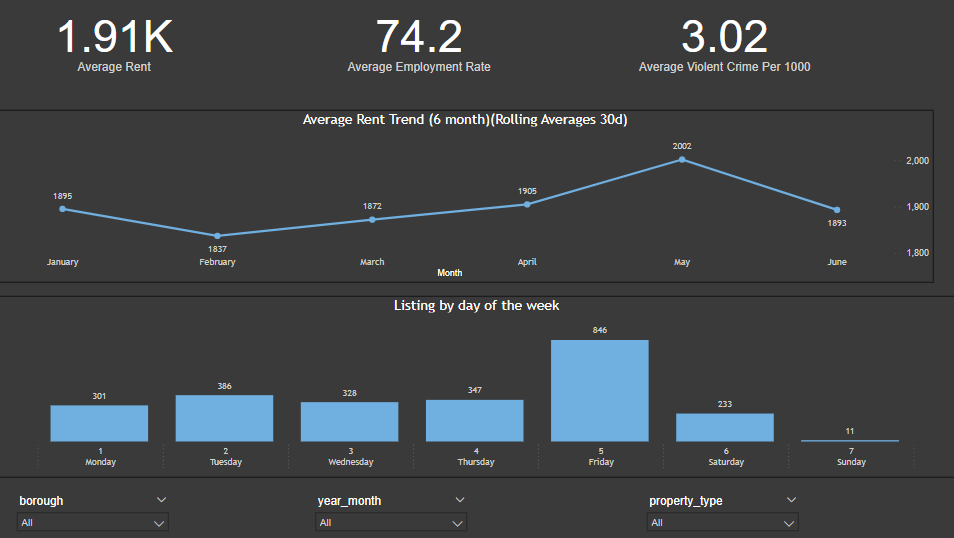

What the dashboard file says about the page in this screenshot:
{"tool":"powerbi","page":{"name":"Trends","canvas":[1280,720],"ordinal":2},"visuals":[{"type":"lineChart","title":"Average Rent Trend (6 month)(Rolling Averages 30d)","fields":{"Category":["fact_listings.date_listed.Variation.Date Hierarchy.Month"],"Y2":["Measure Table.Rolling avg rent (3m)"]},"box":[0,148,1250,212],"z":0},{"type":"slicer","fields":{"Values":["crime_rate_dim.borough"]},"box":[18.3,653.3,221.7,66.7],"z":1000},{"type":"card","fields":{"Values":["Avg(fact_listings.price_amount)"]},"box":[17.8,0,277.8,105.6],"z":2000},{"type":"card","fields":{"Values":["Avg(employment_rate_dim.employment_rate_2024)"]},"box":[420,0,287.8,105.6],"z":3000},{"type":"card","fields":{"Values":["Avg(crime_rate_dim.violent_crime1000)"]},"box":[803.3,0,334.4,105.6],"z":4000},{"type":"clusteredColumnChart","title":"Listing by day of the week","fields":{"Y":["Measure Table.listing count"],"Category":["fact_listings.day of the week","fact_listings.Weekday number"]},"box":[0,422,1140,166],"z":6000},{"type":"slicer","fields":{"Values":["fact_listings.property_type"]},"box":[858.3,653.3,221.7,66.7],"z":7000},{"type":"slicer","fields":{"Values":["fact_listings.year_month"]},"box":[416.7,653.3,221.7,66.7],"z":8000}]}

Visuals, with their boxes in screenshot pixels (x1, y1, x2, y2), scaled from the page's 1280x720 canvas onto the 954x538 screenshot:
"Average Rent Trend (6 month)(Rolling Averages 30d)" lineChart: bbox(0, 111, 932, 269)
slicer - crime_rate_dim.borough: bbox(14, 488, 179, 537)
card - Avg(fact_listings.price_amount): bbox(13, 0, 220, 79)
card - Avg(employment_rate_dim.employment_rate_2024): bbox(313, 0, 528, 79)
card - Avg(crime_rate_dim.violent_crime1000): bbox(599, 0, 848, 79)
"Listing by day of the week" clusteredColumnChart: bbox(0, 315, 850, 439)
slicer - fact_listings.property_type: bbox(640, 488, 805, 537)
slicer - fact_listings.year_month: bbox(311, 488, 476, 537)
